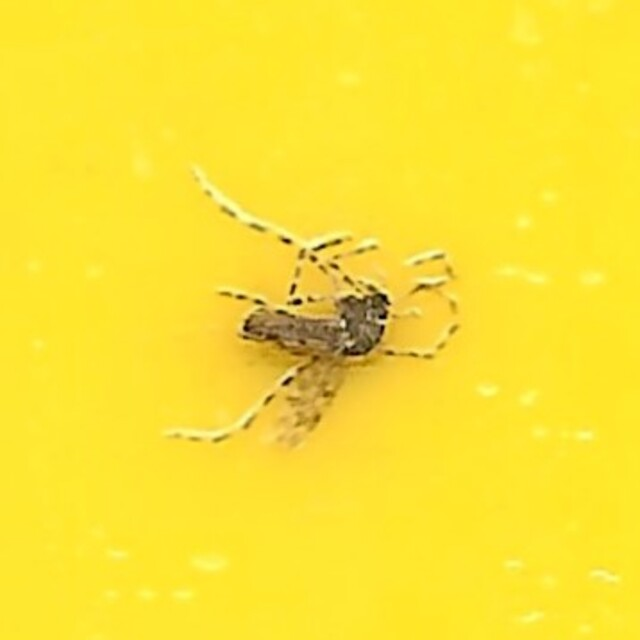Nematocera: (179, 181, 461, 459)
